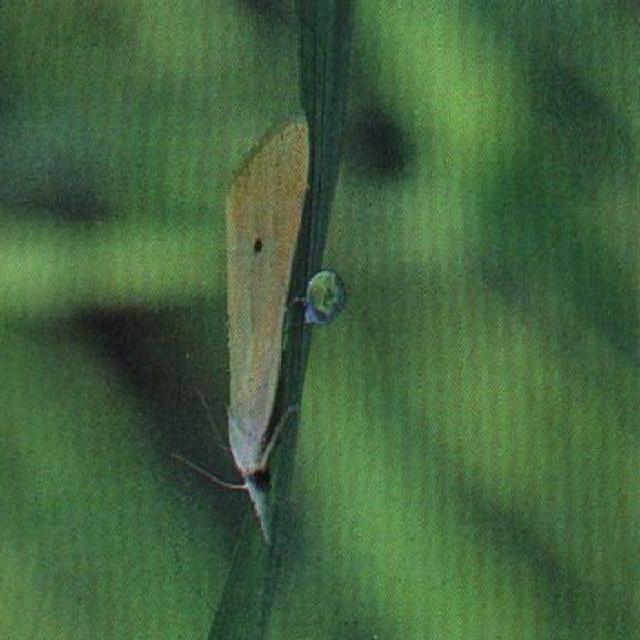stem-borer: (205, 108, 309, 548)
